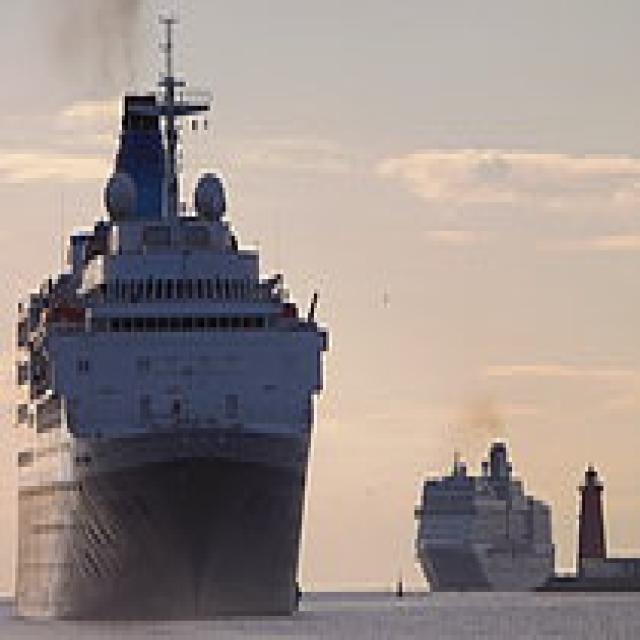Cruise: (9, 5, 329, 621), (405, 428, 555, 592)
